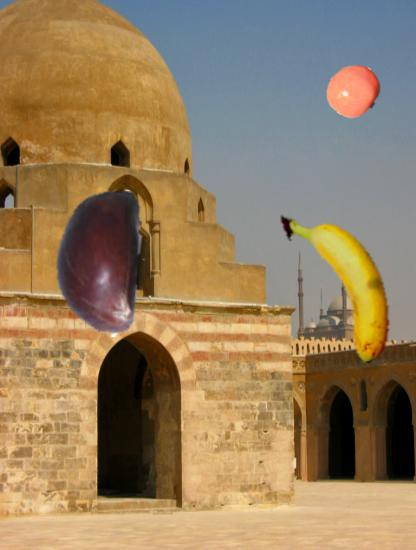Banana: (261, 216, 407, 362)
Chestnut: (24, 187, 173, 336)
Clementine: (326, 63, 382, 119)
